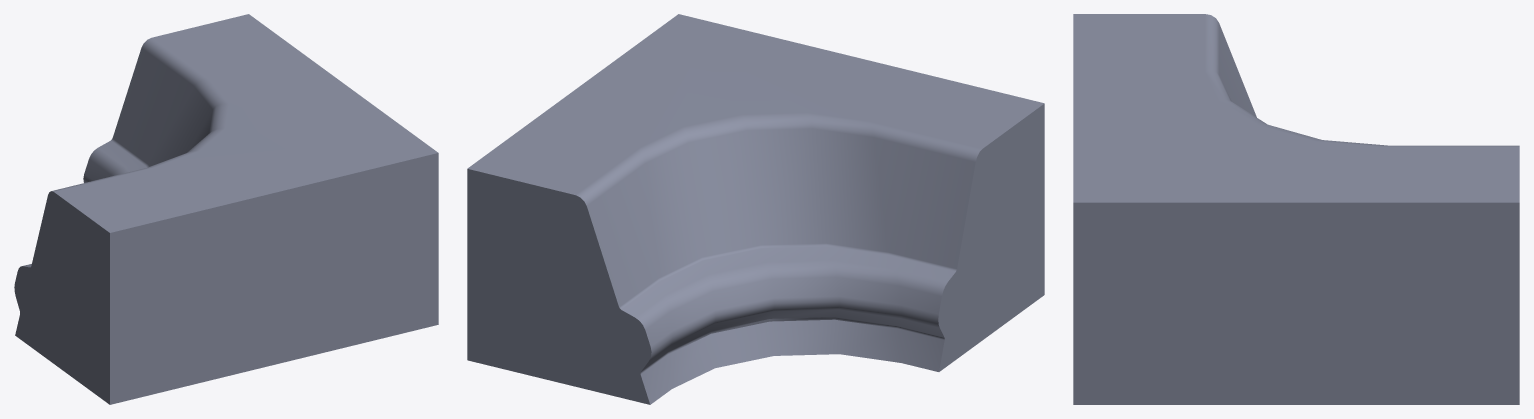
Rendered from WallBigBEVCornerTEST (1).fbx.
The picture shows the model from 3 angles, left to right: view 1: azimuth 30°, elevation 25°; view 2: azimuth 150°, elevation 25°; view 3: azimuth 270°, elevation 25°; orthographic projection. The views are drawn at different scales.
Parts seen in each view (by area): view 1: pCube100; view 2: pCube100; view 3: pCube100.
Part boxes in pixels (left/top/right/bottom): pCube100: left=14, top=14, right=438, bottom=404; pCube100: left=467, top=14, right=1044, bottom=404; pCube100: left=1073, top=14, right=1519, bottom=404.
Bounding box in the file's own units: 200 × 100 × 200.
